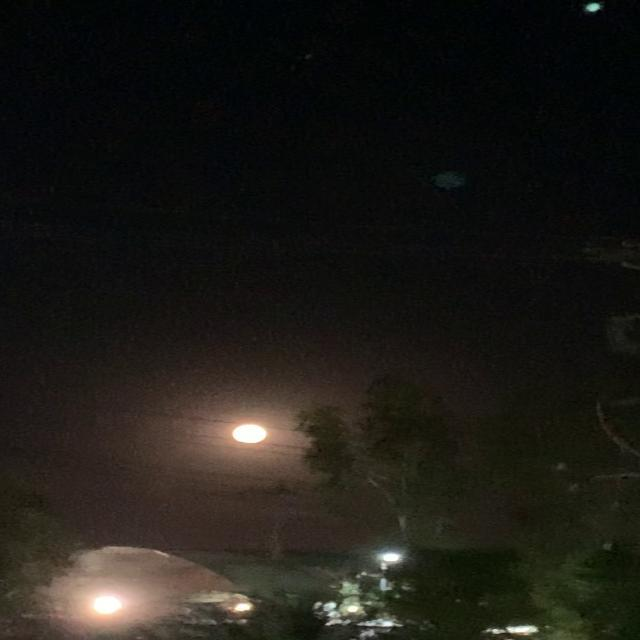moon: (226, 423, 268, 448)
